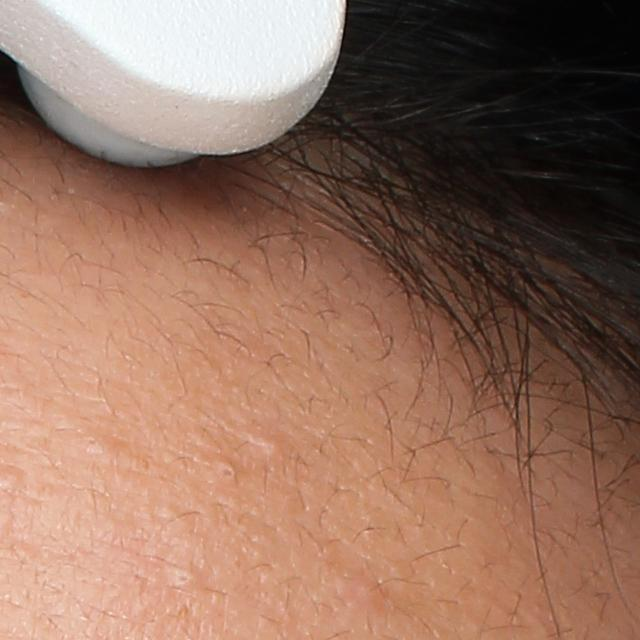comedo: (256, 435, 288, 456), (221, 463, 238, 479)
